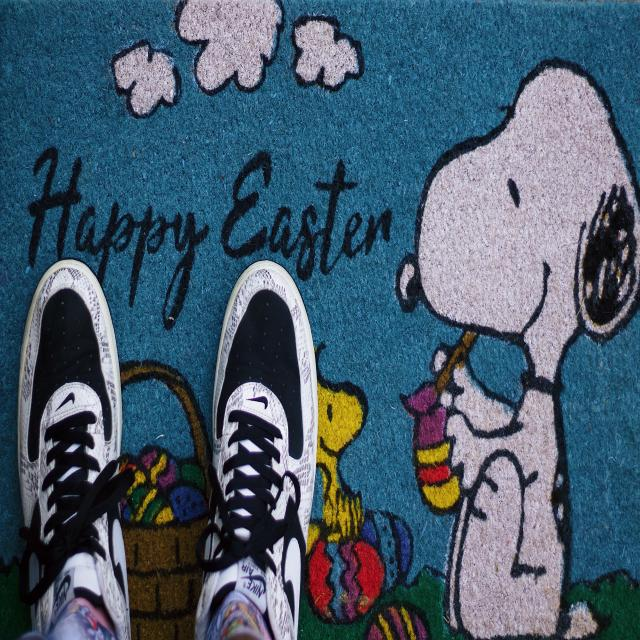shoe: (1, 237, 138, 640), (191, 250, 328, 640)
